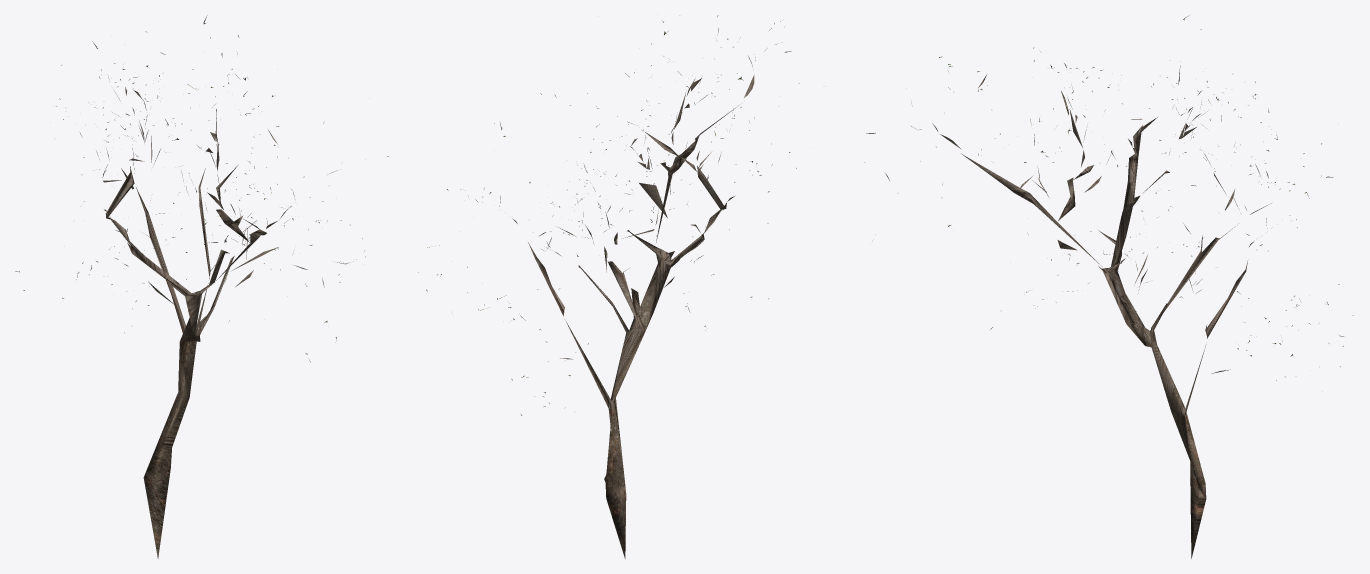
Rendered from tree_small_02-far.glb.
3 renders of one model, left to right at view 1: azimuth 30°, elevation 25°; view 2: azimuth 150°, elevation 25°; view 3: azimuth 270°, elevation 25°, orthographic. The views are drawn at different scales.
Visible parts, largest first — view 1: tree_small_02_LOD0; view 2: tree_small_02_LOD0; view 3: tree_small_02_LOD0.
Boxes of the visible parts, <box> form: tree_small_02_LOD0: <box>15,15,388,558</box>; tree_small_02_LOD0: <box>418,15,825,558</box>; tree_small_02_LOD0: <box>864,16,1353,558</box>.
Bounding box in the file's own units: 2.74 × 4.47 × 3.94.
3 materials, 3 textured.
